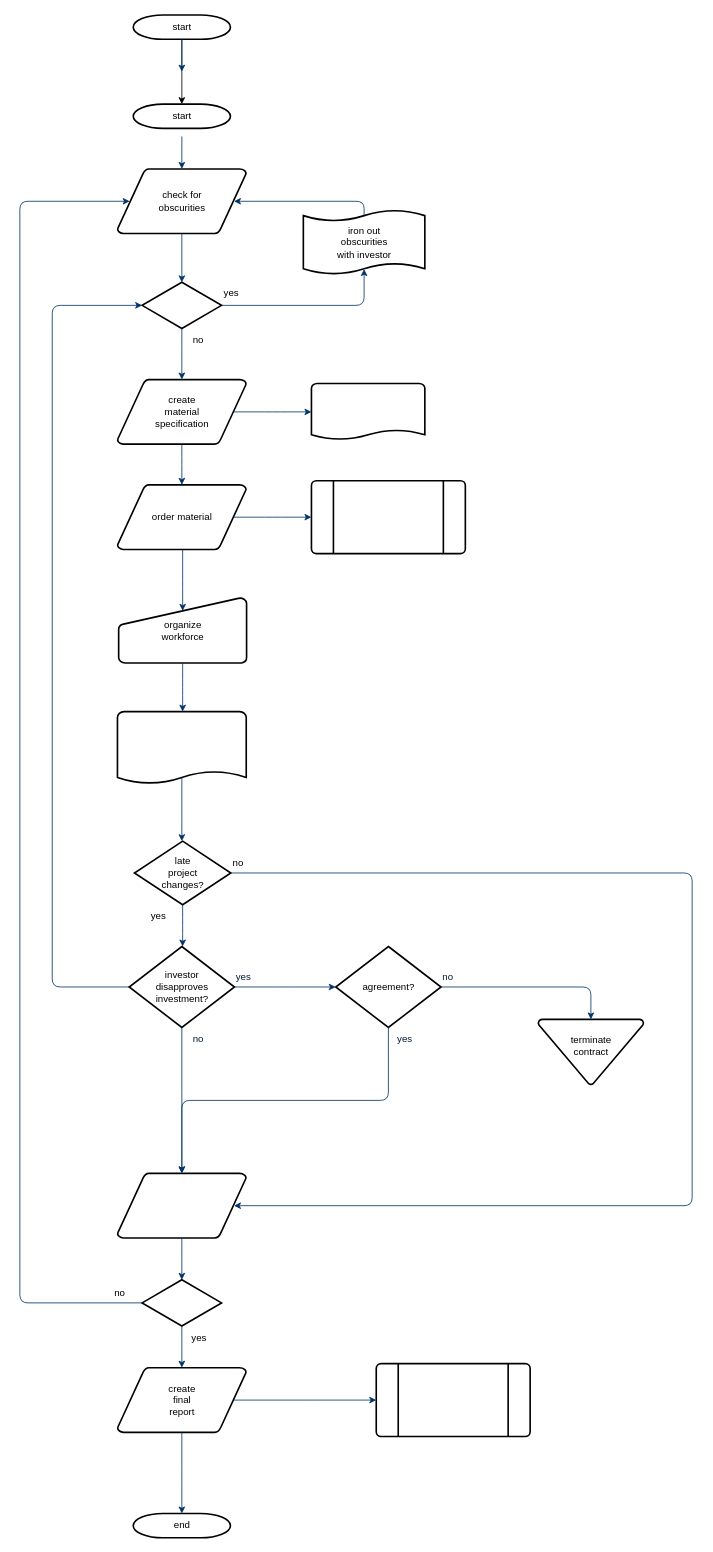
Some shapes in this 713 by 1552 pixel diagram are drawn without their labels. The shapes that lost their labels are listed below. From the top down, each one's centre as x and y in pixels, then its label:
the point at 181,305: obscurities?
the point at 367,411: final project
the point at 388,517: material balance
the point at 181,747: create Gantt diagram
the point at 181,1205: create status report
the point at 181,1302: project complete?
the point at 453,1399: issue bill of works
